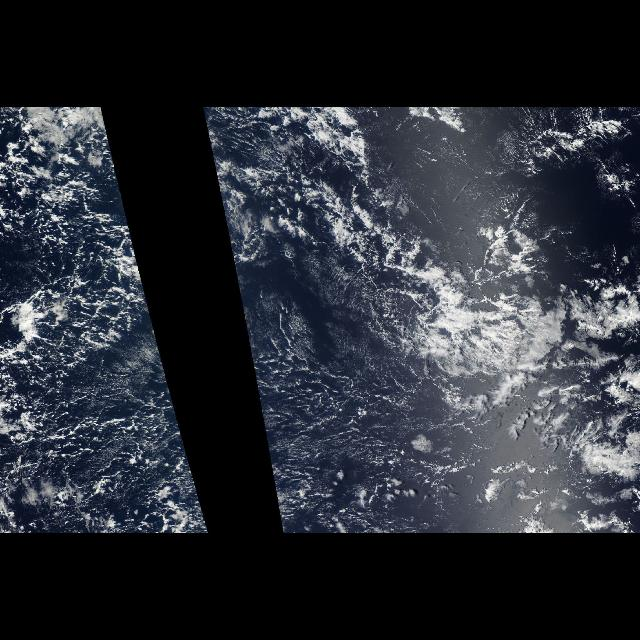Fish: (253, 168, 639, 398)
Gravel: (1, 108, 210, 530), (246, 301, 434, 523)
Sugar: (248, 311, 442, 534), (493, 108, 639, 222)
